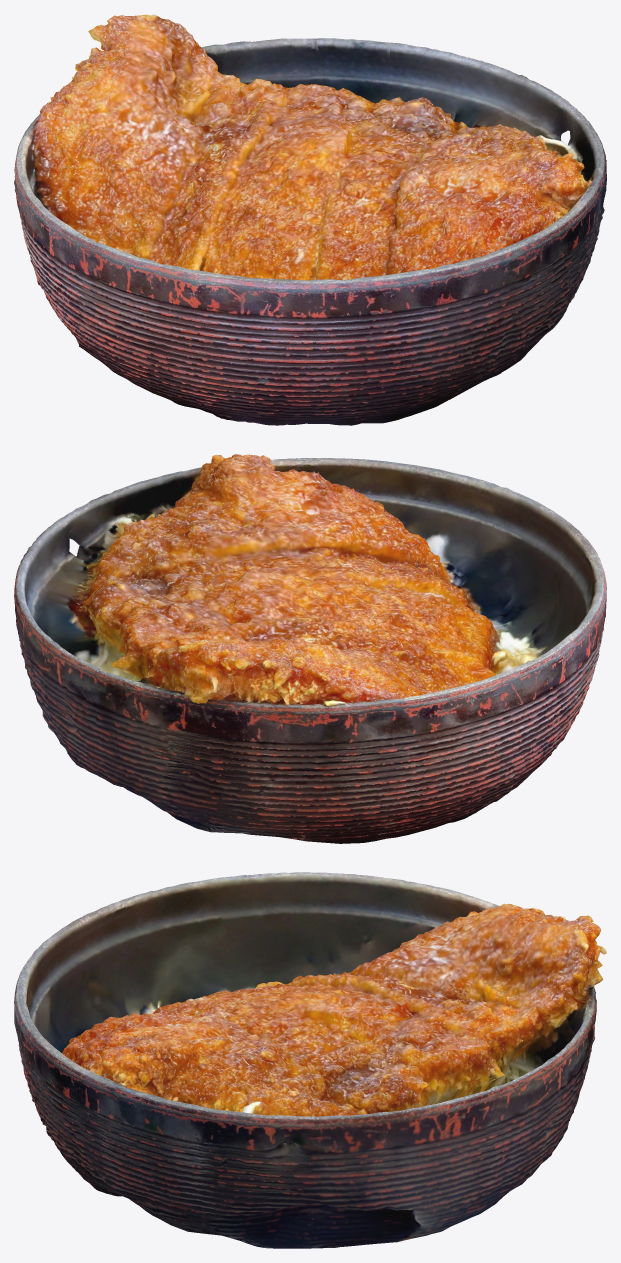
Rendered from SauceKatsudon_80.glb.
The picture shows the model from 3 angles, top to bottom: view 1: azimuth 30°, elevation 25°; view 2: azimuth 150°, elevation 25°; view 3: azimuth 270°, elevation 25°; orthographic projection.
Visible parts, largest first — view 1: 630c96d8-9125-4333-a882-a0ab3190eaae; view 2: 630c96d8-9125-4333-a882-a0ab3190eaae; view 3: 630c96d8-9125-4333-a882-a0ab3190eaae.
Part boxes in pixels (<box>): 630c96d8-9125-4333-a882-a0ab3190eaae: <box>14,14,606,425</box>; 630c96d8-9125-4333-a882-a0ab3190eaae: <box>14,454,606,843</box>; 630c96d8-9125-4333-a882-a0ab3190eaae: <box>14,872,606,1248</box>.
Size of the model in its own units: 0.181 by 0.0785 by 0.184.
1 material, 1 textured.
